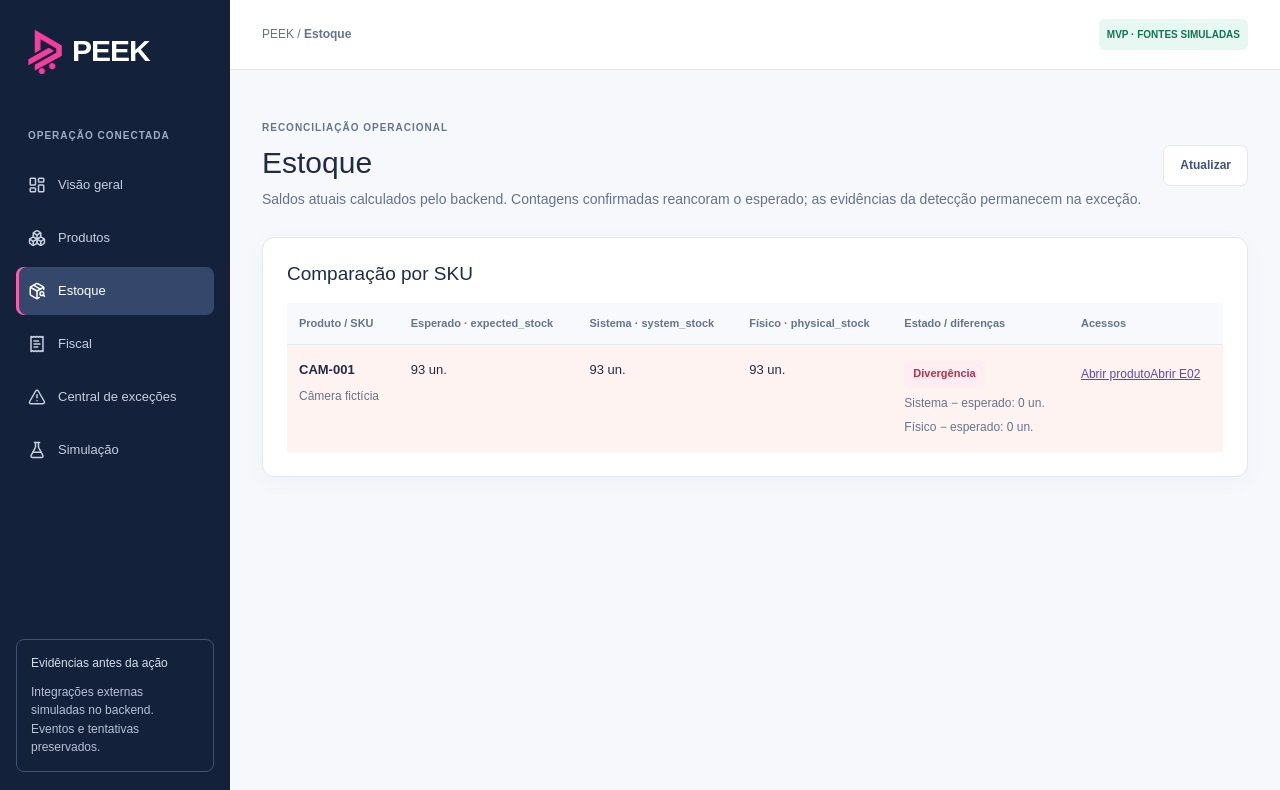
Scenario: Overview and inventory API pages › shows three stocks, differences and links the current E02 even after checkpoint rebasing
Check: the text "Divergência" is shown, box [904,360,985,388]
Check: the text "93 un." is shown 3 times, box [399,345,578,452]; [578,345,737,452]; [737,345,892,452]
Step 1. Click the button "Abrir produto" → click(1116, 375), box [1081,360,1150,389]
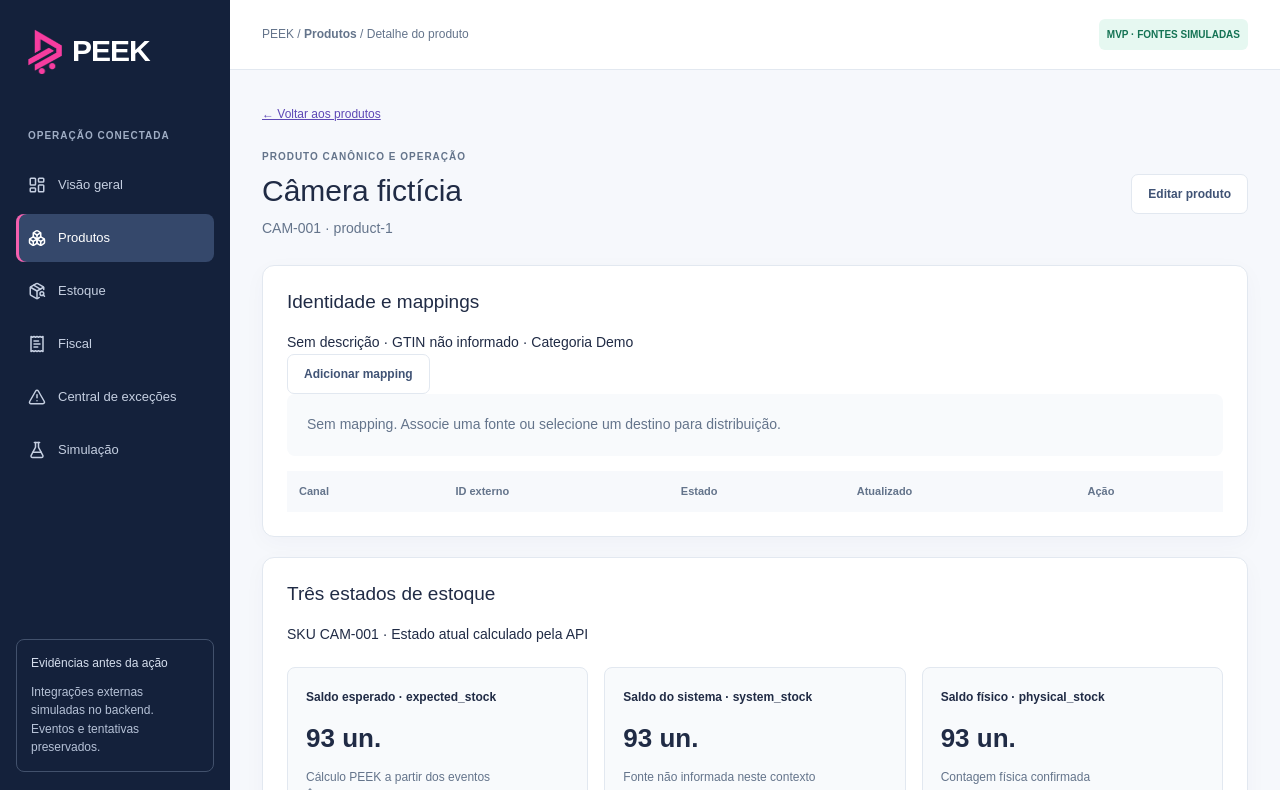
Check: the heading "Câmera fictícia" is shown, box [262,172,466,210]
